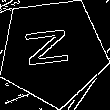N_E: (26, 28, 80, 75)
